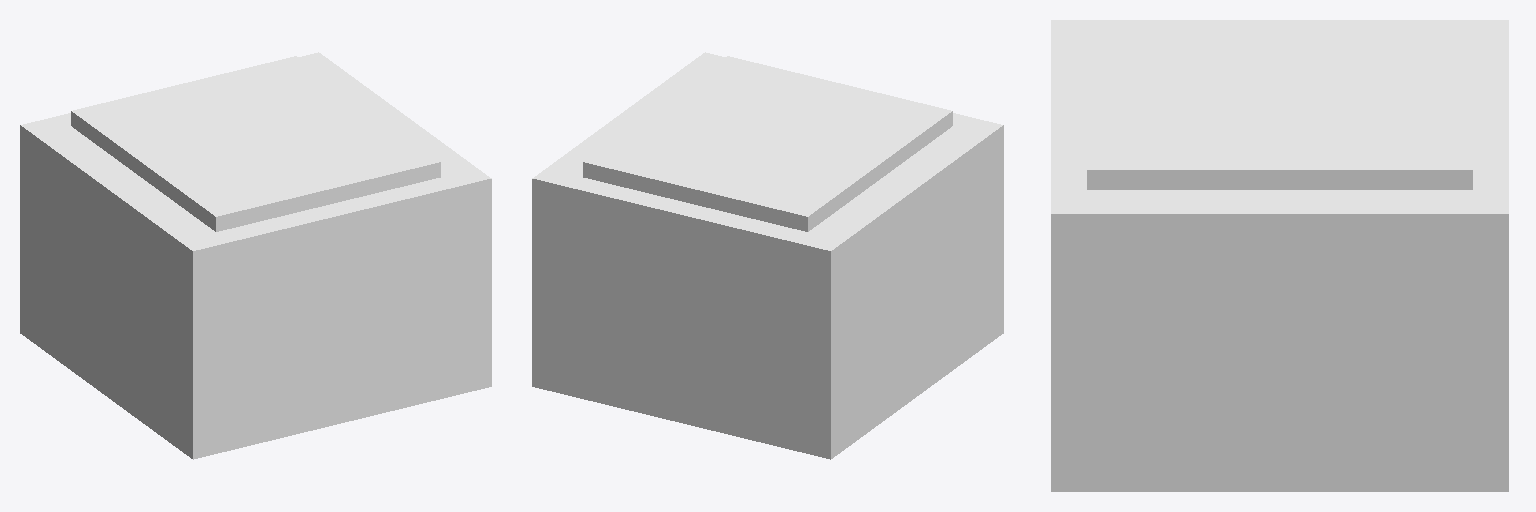
URDF robot description (aruco):
<?xml version="1.0" ?>
<robot name="aruco">
  <link name="arucoLink">
  <contact>
      <lateral_friction value="1"/>
  </contact>
    <inertial>
      <origin rpy="0 0 0" xyz="0 0 0"/>
       <mass value=".0"/>
       <inertia ixx="0" ixy="0" ixz="0" iyy="0" iyz="0" izz="0"/>
    </inertial>
    <visual>
      <origin rpy="1.570796 0 0" xyz="0 0 0"/>
      <geometry>
				<mesh filename="calibration.obj" scale="0.5 4 0.5"/>
      </geometry>
       <material name="white">
        <color rgba="1 1 1 1"/>
      </material>
    </visual>
    <collision>
      <origin rpy="1.570796 0 0" xyz="0 0 0"/>
      <geometry>
		<mesh filename="calibration.obj" scale="1 1 1"/>
      </geometry>
    </collision>
  </link>
</robot>

--- What the picture shows (computed from the rendered views, not written in the file) ---
The picture shows the robot from 3 angles, left to right: view 1: azimuth 30°, elevation 25°; view 2: azimuth 150°, elevation 25°; view 3: azimuth 270°, elevation 25°; orthographic projection.
Model aruco with 1 links and 0 joints (none), rooted at arucoLink, posed all joints at 0.
Visible links, largest first — view 1: arucoLink; view 2: arucoLink; view 3: arucoLink.
Link boxes in pixels (x1,y1,x2,y2): arucoLink: (20, 52, 491, 459); arucoLink: (532, 52, 1003, 459); arucoLink: (1051, 20, 1508, 491).
Bounding box of the posed robot: 0.15 × 0.15 × 0.1074 m (x, y, z).
Meshes: 1 distinct files referenced, 1 mesh visuals loaded (1 OBJ).